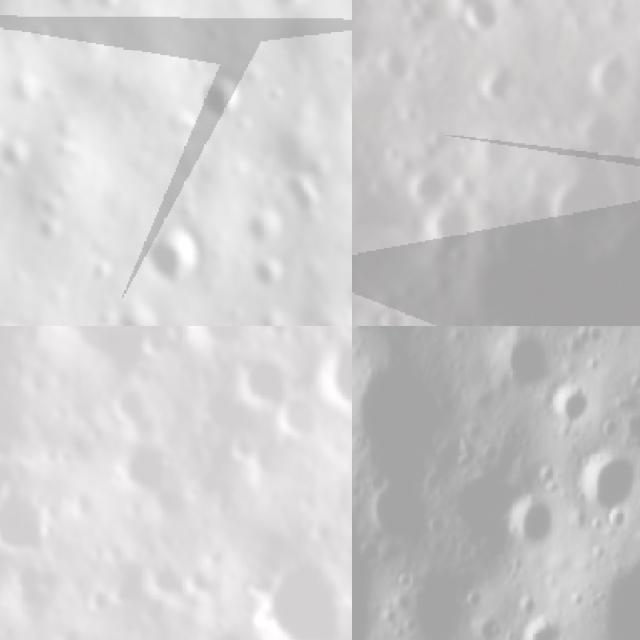crater: (353, 460, 462, 549), (536, 154, 630, 249), (574, 518, 640, 640), (260, 554, 349, 640), (352, 498, 402, 640), (398, 566, 487, 640), (412, 184, 491, 266), (563, 448, 640, 526), (436, 0, 525, 57), (456, 116, 531, 183), (392, 145, 461, 214), (352, 0, 410, 81), (53, 326, 177, 363), (492, 335, 558, 403), (570, 98, 637, 164), (241, 421, 309, 483), (143, 224, 204, 292), (0, 488, 55, 562), (498, 494, 561, 558), (584, 39, 640, 106), (116, 439, 180, 494), (470, 52, 528, 112), (276, 161, 332, 222), (197, 378, 259, 433), (192, 70, 252, 124), (232, 348, 290, 402), (372, 33, 426, 89), (112, 380, 168, 430), (319, 335, 352, 415), (545, 385, 588, 445), (512, 150, 561, 200), (270, 391, 321, 437), (142, 561, 192, 606), (188, 326, 262, 354), (0, 132, 44, 179), (366, 292, 426, 326), (240, 208, 286, 252), (190, 617, 267, 640), (251, 255, 291, 297), (442, 306, 498, 326), (80, 0, 131, 17), (269, 0, 312, 16), (0, 457, 11, 503), (0, 310, 28, 326)
